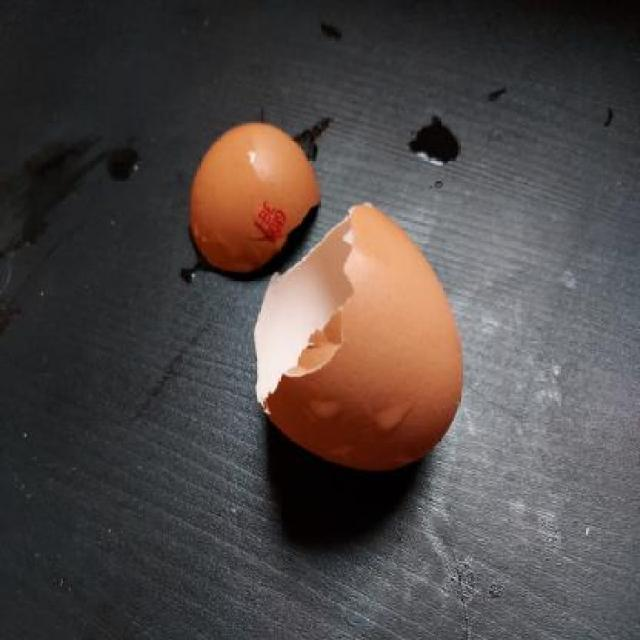biodegradable: (251, 199, 467, 481), (182, 117, 320, 276)
